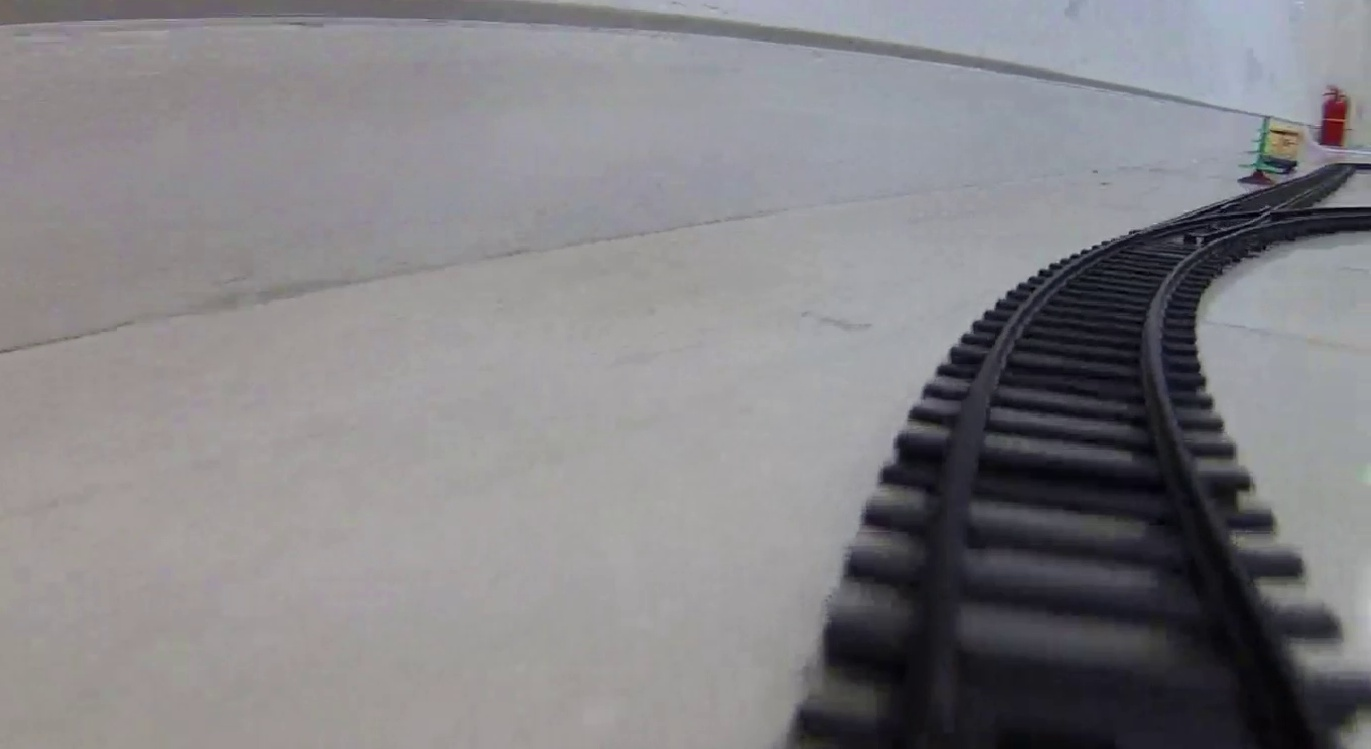tree: (1235, 115, 1283, 183)
